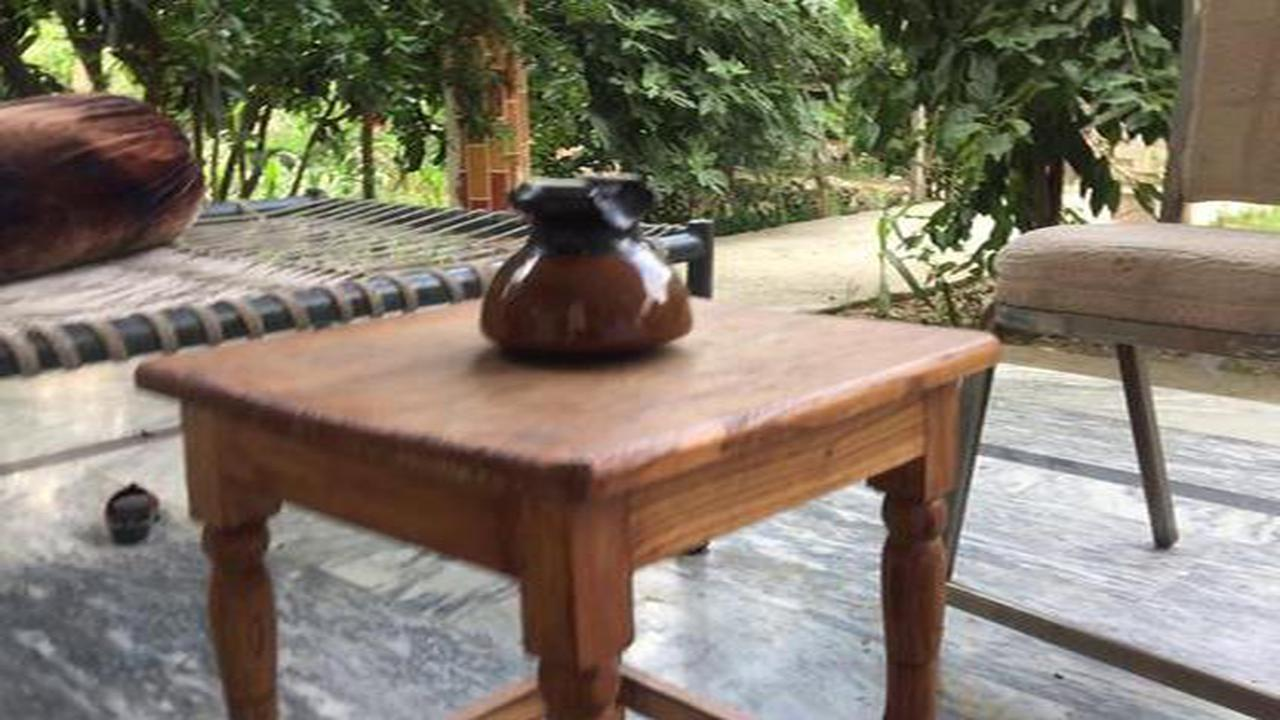insulator_pin: (462, 165, 711, 367)
